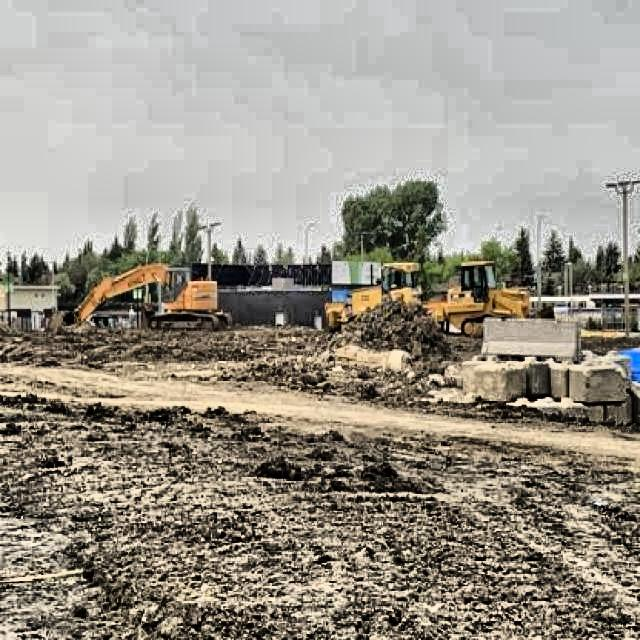excavator: (68, 260, 236, 337)
